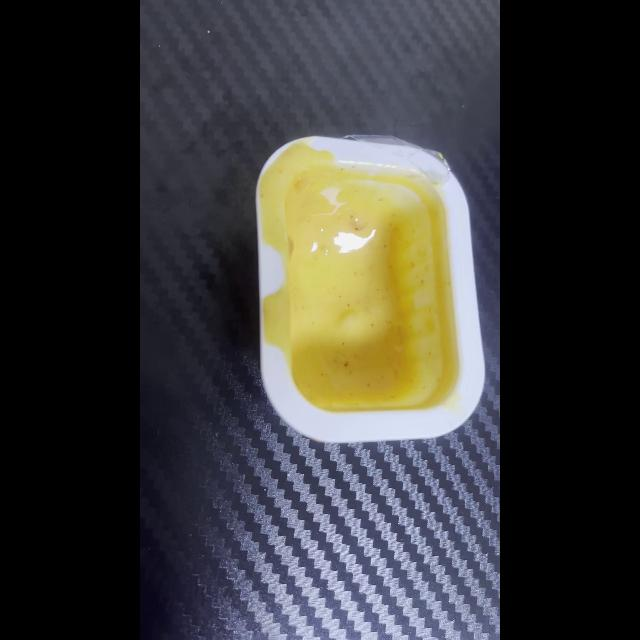dirty: (260, 136, 484, 434)
